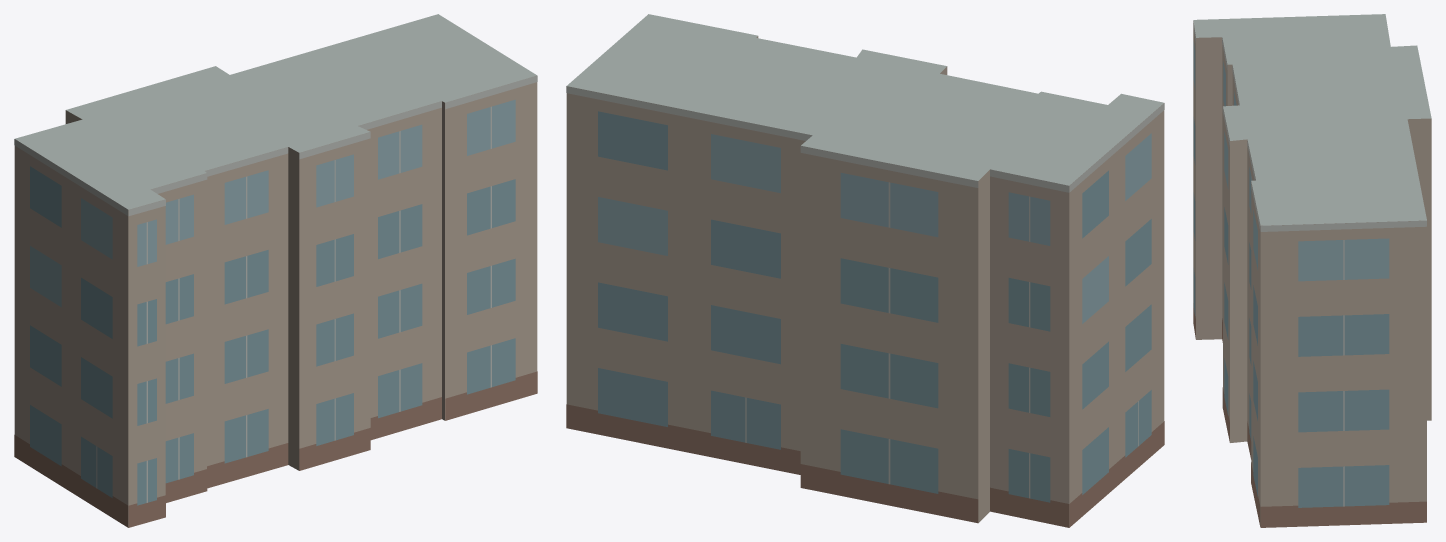
Rendered from survey-upis-32756421.glb.
The picture shows the model from 3 angles, left to right: view 1: azimuth 30°, elevation 25°; view 2: azimuth 150°, elevation 25°; view 3: azimuth 270°, elevation 25°; orthographic projection. The views are drawn at different scales.
Parts seen in each view (by area): view 1: survey-upis-32756421.tmp; view 2: survey-upis-32756421.tmp; view 3: survey-upis-32756421.tmp.
Part boxes in pixels (x1,y1,x2,y2): survey-upis-32756421.tmp: (14,14,537,527); survey-upis-32756421.tmp: (566,14,1164,527); survey-upis-32756421.tmp: (1193,14,1431,527).
Bounding box in the file's own units: 17.75 × 11.8 × 8.45.
